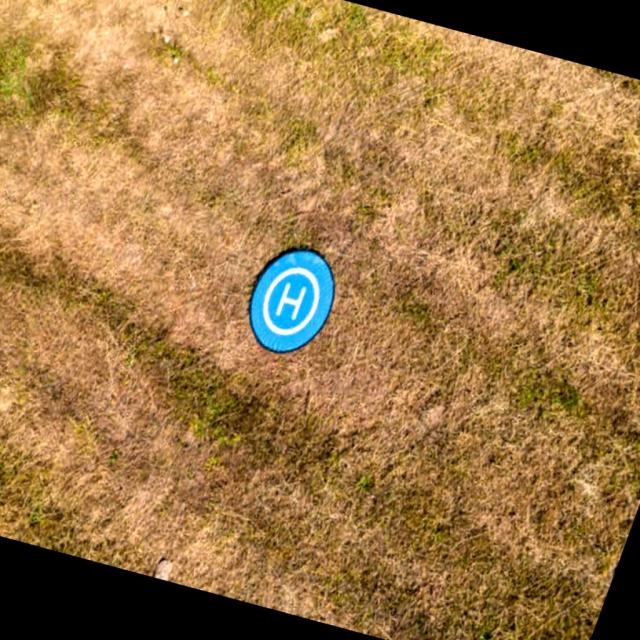helipad: (257, 262, 325, 336)
